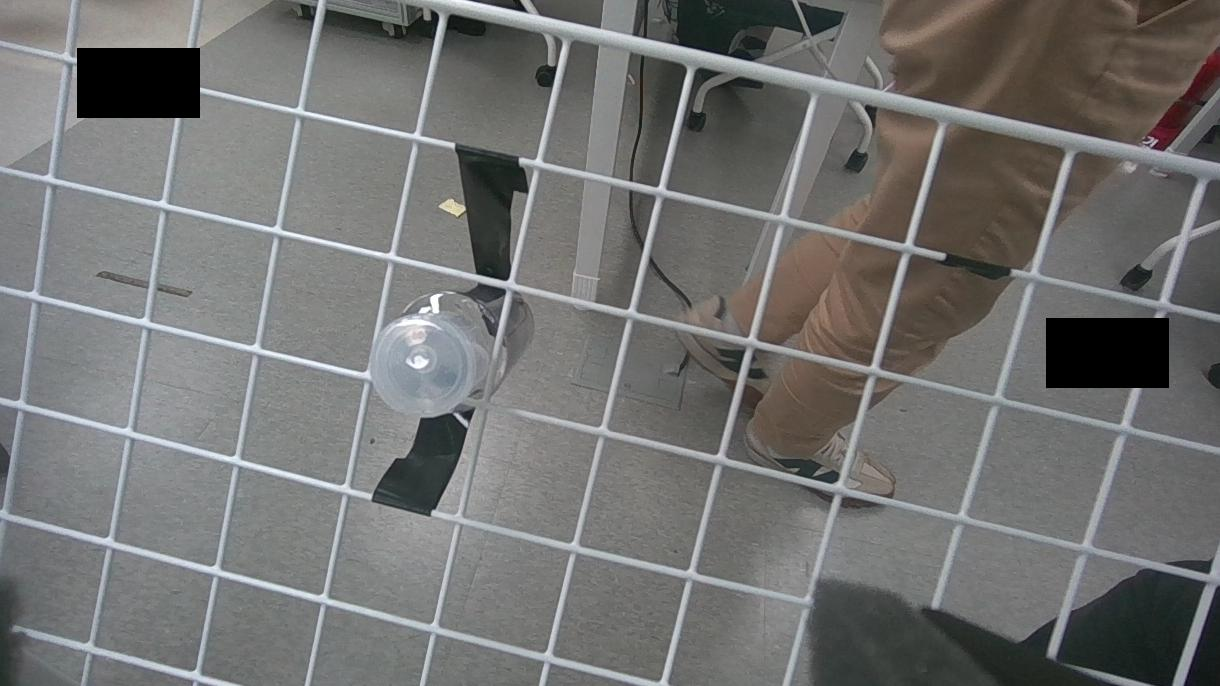Cap: (368, 311, 479, 422)
